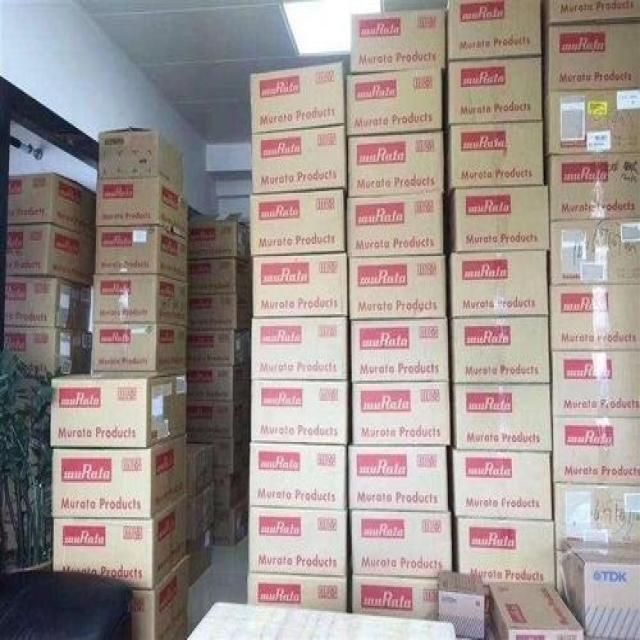box: (52, 493, 186, 591), (51, 435, 187, 519), (452, 512, 556, 618), (50, 367, 187, 447), (561, 541, 640, 640), (447, 449, 553, 521), (443, 123, 544, 198), (444, 184, 550, 253), (251, 123, 348, 198), (443, 56, 543, 128), (248, 509, 352, 577), (251, 61, 346, 135), (543, 22, 640, 94), (351, 509, 453, 577), (445, 251, 549, 317), (452, 384, 552, 452), (351, 9, 447, 79), (348, 445, 448, 512), (250, 442, 348, 510), (448, 317, 550, 382), (347, 68, 443, 137), (348, 130, 444, 198), (544, 154, 640, 222), (250, 189, 347, 256), (250, 381, 352, 444), (251, 317, 351, 381), (349, 256, 447, 321), (351, 317, 449, 382), (547, 217, 640, 285), (543, 90, 640, 155), (353, 382, 452, 445), (547, 283, 640, 350), (550, 350, 640, 418), (253, 253, 348, 317), (348, 195, 444, 258), (552, 418, 640, 485), (552, 483, 640, 550), (445, 0, 541, 61), (99, 126, 183, 195), (6, 172, 96, 236), (96, 177, 188, 239), (6, 225, 95, 288), (488, 584, 585, 640), (95, 227, 187, 282), (131, 553, 188, 640), (92, 276, 188, 326), (92, 324, 187, 372), (4, 278, 92, 329), (4, 328, 91, 377), (247, 573, 353, 613), (353, 577, 439, 621), (440, 572, 485, 638), (187, 428, 250, 474), (186, 220, 252, 261), (541, 0, 640, 26), (187, 362, 250, 401), (187, 398, 250, 437), (187, 331, 251, 367), (186, 259, 251, 294), (187, 294, 251, 329), (210, 497, 248, 546), (186, 480, 216, 541), (187, 527, 212, 587), (187, 442, 214, 497), (215, 466, 248, 509)
